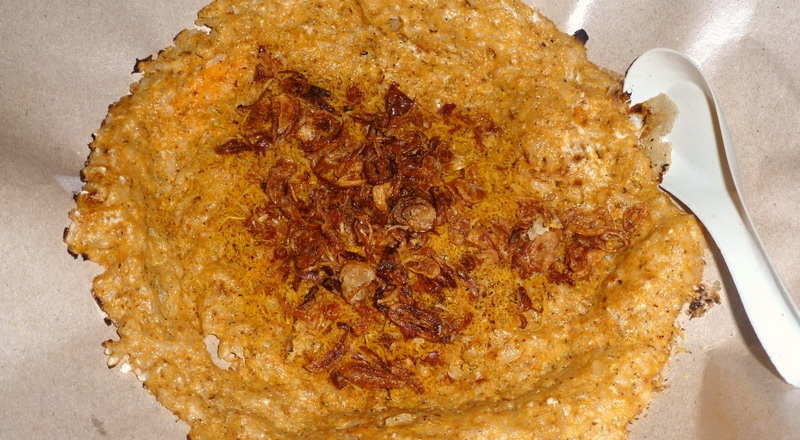kerak_telor: (84, 5, 685, 440)
